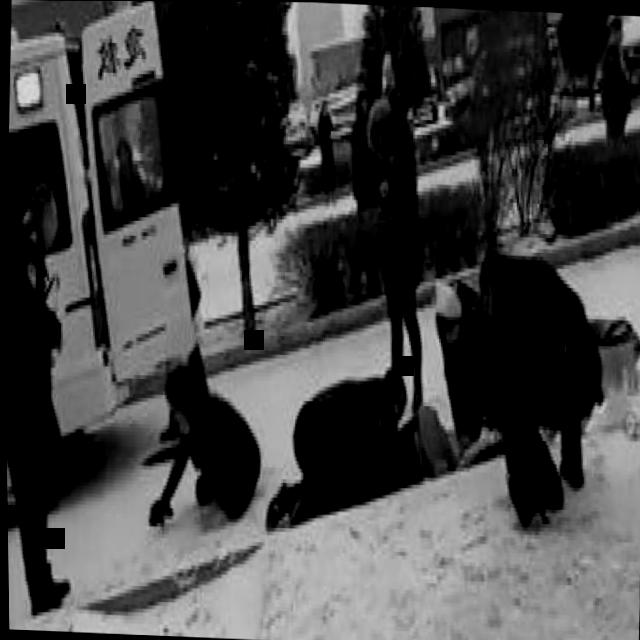Fall-Detected: (138, 334, 274, 546)
